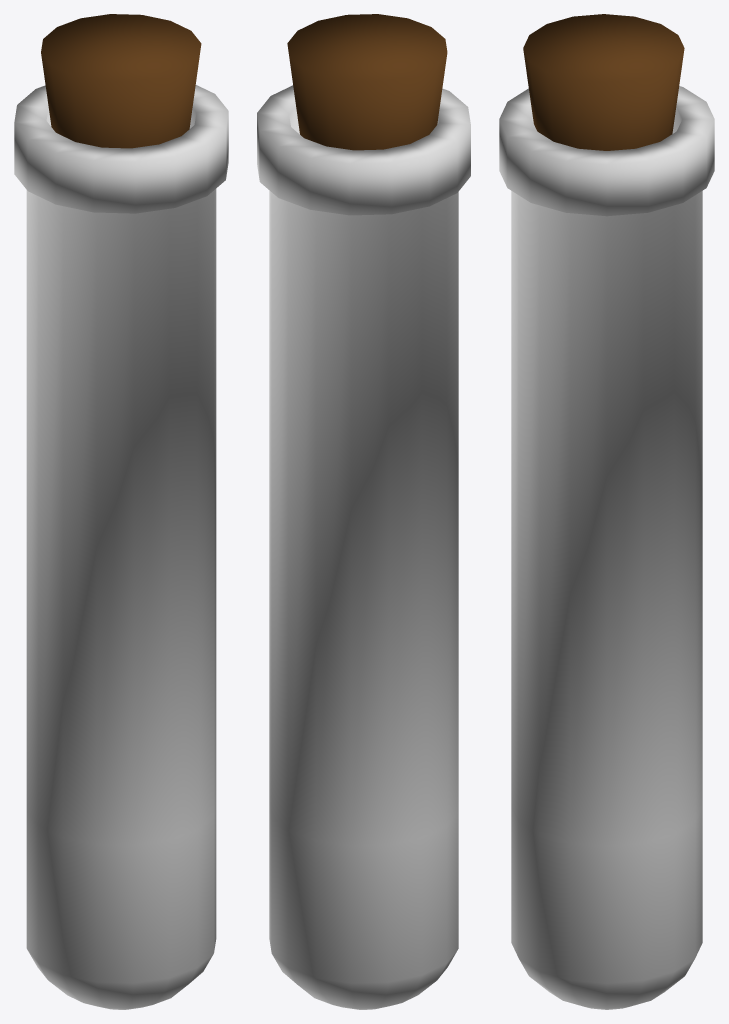
File: Potion7.fbx
3 views of the same model, side by side, from view 1: azimuth 30°, elevation 25°; view 2: azimuth 150°, elevation 25°; view 3: azimuth 270°, elevation 25° (orthographic).
Parts seen in each view (by area): view 1: Vidro7, Rolha6.001; view 2: Vidro7, Rolha6.001; view 3: Vidro7, Rolha6.001.
Part boxes in pixels (x1,y1,x2,y2): Vidro7: [14, 85, 228, 1009]; Rolha6.001: [41, 14, 201, 148]; Vidro7: [257, 85, 470, 1009]; Rolha6.001: [287, 14, 447, 150]; Vidro7: [499, 86, 714, 1009]; Rolha6.001: [523, 14, 684, 150].
Size of the model in its own units: 19.96 by 97.25 by 19.96.
